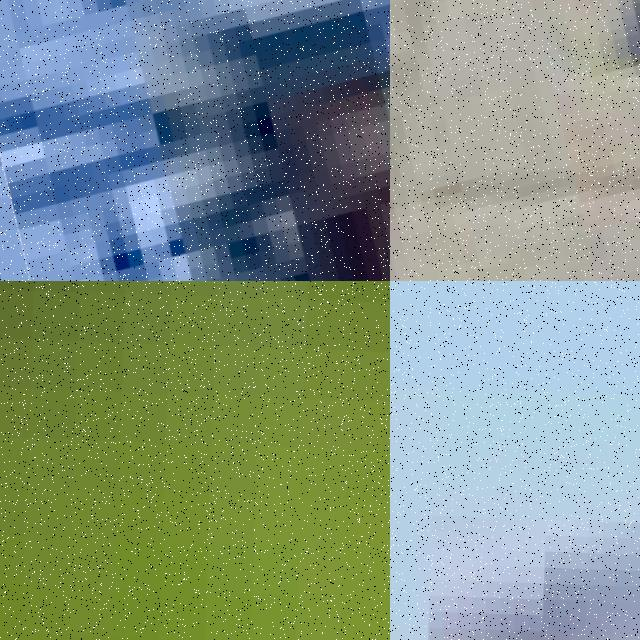drone: (0, 0, 390, 281), (390, 0, 640, 281)
